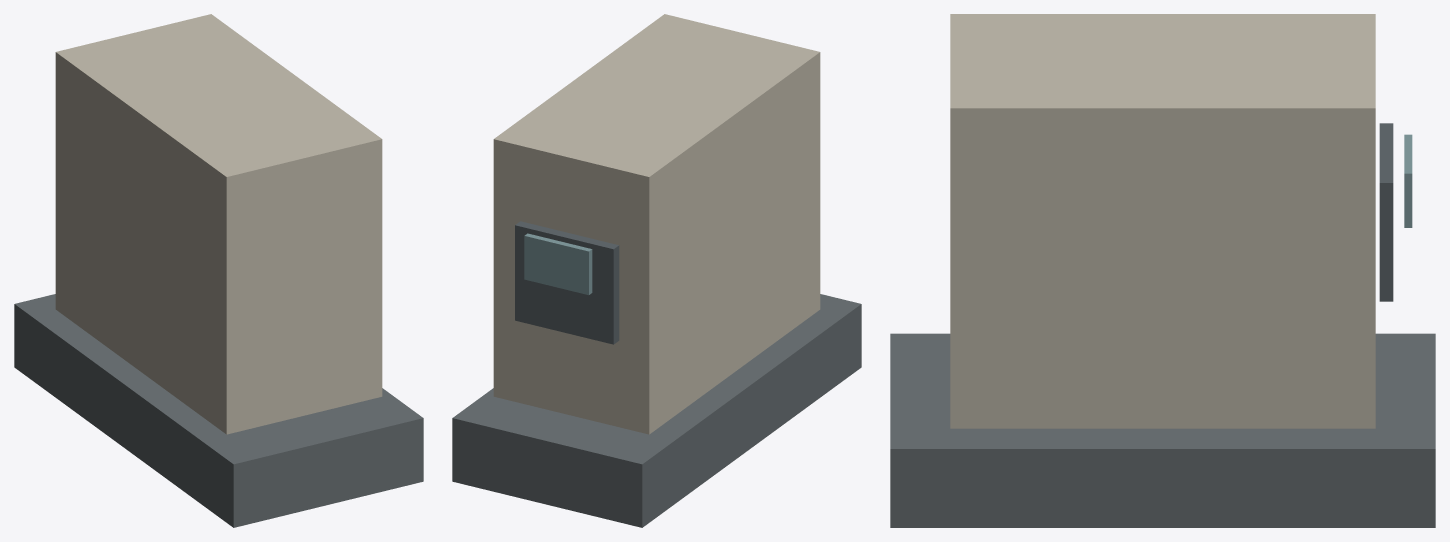
Rendered from iz3_military_bunk_01.glb.
3 views of the same model, side by side, from view 1: azimuth 30°, elevation 25°; view 2: azimuth 150°, elevation 25°; view 3: azimuth 270°, elevation 25° (orthographic). The views are drawn at different scales.
Parts seen in each view (by area): view 1: cabinet, base; view 2: cabinet, base, panel, display; view 3: cabinet, base, panel, display.
Part boxes in pixels (box(x1,y1,x2,y2)): cabinet: box(55, 14, 382, 434); base: box(14, 294, 423, 527); cabinet: box(493, 14, 820, 434); base: box(452, 294, 861, 527); panel: box(515, 221, 619, 344); display: box(524, 233, 592, 295); cabinet: box(950, 14, 1375, 428); base: box(890, 333, 1435, 527); panel: box(1379, 123, 1393, 301); display: box(1404, 134, 1412, 227).
Size of the model in its own units: 1 by 1.66 by 2.
